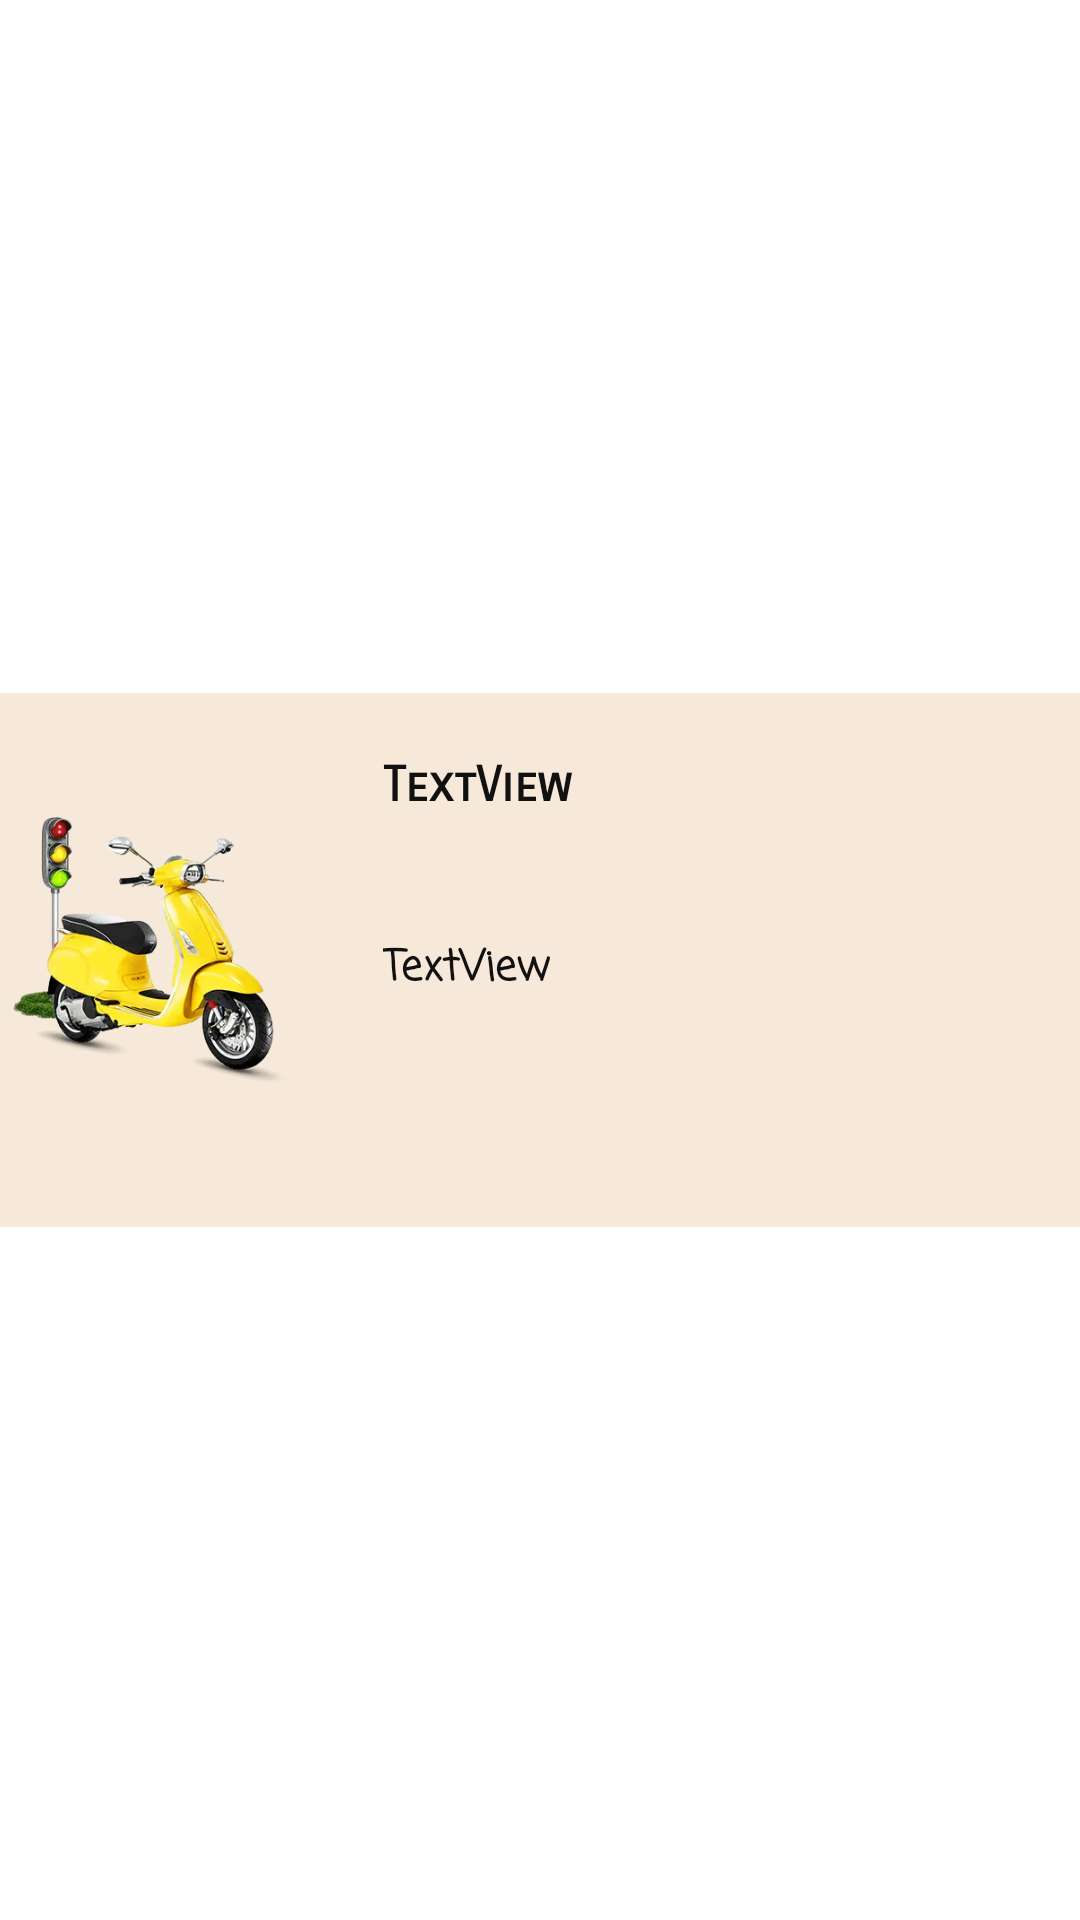

Screen size 1080×1920. Icon name, then its center in pixels as (x=x, y=y):
vehicle: (x=143, y=948)
